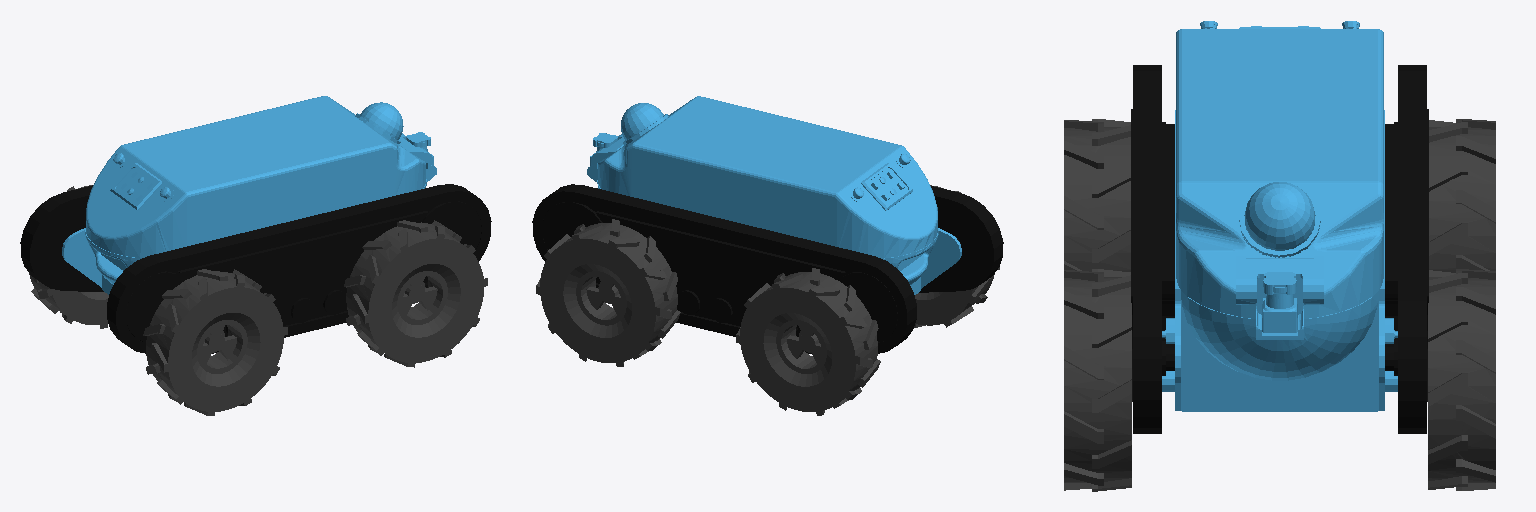
URDF robot description (guardian):
<?xml version="1.0"?>
<robot name="guardian" 

       xmlns:xi="http://www.w3.org/2001/XInclude"
       xmlns:gazebo="http://playerstage.sourceforge.net/gazebo/xmlschema/#gz"
       xmlns:model="http://playerstage.sourceforge.net/gazebo/xmlschema/#model"
       xmlns:sensor="http://playerstage.sourceforge.net/gazebo/xmlschema/#sensor"
       xmlns:body="http://playerstage.sourceforge.net/gazebo/xmlschema/#body"
       xmlns:geom="http://playerstage.sourceforge.net/gazebo/xmlschema/#geom"
       xmlns:joint="http://playerstage.sourceforge.net/gazebo/xmlschema/#joint"
       xmlns:interface="http://playerstage.sourceforge.net/gazebo/xmlschema/#interface"
       xmlns:rendering="http://playerstage.sourceforge.net/gazebo/xmlschema/#rendering"
       xmlns:renderable="http://playerstage.sourceforge.net/gazebo/xmlschema/#renderable"
       xmlns:controller="http://playerstage.sourceforge.net/gazebo/xmlschema/#controller"
       xmlns:physics="http://playerstage.sourceforge.net/gazebo/xmlschema/#physics">

  <!-- BASE FOOTPRINT -->
  <!-- base_footprint is a fictitious link(frame) that is on the ground right below base_link origin,
             navigation stack depends on this frame -->
  <link name="base_footprint">
      <inertial>
          <mass value="0.0001" />
          <origin xyz="0 0 0" />
      <inertia ixx="0.0001" ixy="0.0" ixz="0.0"
                         iyy="0.0001" iyz="0.0" 
                         izz="0.0001" />
      </inertial>

      <visual>
          <origin xyz="0 0 0" rpy="0 0 0" />
          <geometry>
             <box size="0.001 0.001 0.001" />
          </geometry>
      </visual>

      <collision>
          <origin xyz="0 0 0.0" rpy="0 0 0" />
          <geometry>
            <box size="0.001 0.001 0.001" />
         </geometry>
     </collision>
  </link>

  <gazebo reference="base_footprint">
    <material>Gazebo/Green</material>
    <turnGravityOff>false</turnGravityOff>
  </gazebo>

  <joint name="base_footprint_joint" type="fixed">
     <!--NB: While you would think this would make it go up, it is oddly reversed.
      This moves the joint to 0,0,0 where we want it for rviz, etc. -->
     <origin xyz="0 0 0.130" rpy="0 0 0" />
     <origin xyz="0 0 0.18" rpy="0 0 0" />
     <parent link="base_footprint"/>
     <child link="base_link" />
  </joint>


  <!-- BASE_LINK (RED) -->
  <link name="base_link">
    <inertial>
      <mass value="45.0" />
      <origin xyz="0 0 0" />
      <inertia  ixx="3.737" ixy="0.008"  ixz="-0.144"  iyy="8.311"  iyz="-0.004"  izz="8.893" />
    </inertial>
    <visual>
       <origin xyz="0 0 0" rpy="0 0 0" />
       <geometry>
	 <mesh filename="package://guardian_description/meshes/chassis/v6/chassisV6.stl"/>
       </geometry>
    </visual>
    <collision>
       <origin xyz="0 0 0" rpy="0 0 0 " />
       <geometry>
         <mesh filename="package://guardian_description/meshes/chassis/v6/chassisV6.stl"/>
       </geometry>
    </collision>     
  </link>
  <gazebo reference="base_link">
    <material>Gazebo/Red</material>
    <turnGravityOff>false</turnGravityOff>
  </gazebo>


  <!-- LEFT TRACK (BLACK) -->
  <link name="left_track">
    <inertial>
      <mass value="1.250" />
      <origin xyz="0 0 0" /> 
      <inertia  ixx="0.0109375" ixy="0.0"  ixz="0.0"  iyy="0.021125"  iyz="0.0"  izz="0.0109375" />
    </inertial>
    <visual>
        <origin xyz="0 0 0" rpy="0 0 0" /> 
        <geometry>
	 <mesh filename="package://guardian_description/meshes/others/v5/trackV5_l.stl"/>
        </geometry>
	<material name="black">
  		<color rgba="0.1 0.1 0.1 1"/>
      	</material>
    </visual>
    <collision>
       <origin xyz="0 0 0" rpy="0 0 0" />
       <geometry>
         <mesh filename="package://guardian_description/meshes/others/v5/trackV5_l.stl"/>
       </geometry>
    </collision>
  </link>
  <gazebo reference="left_track">
    <material>Gazebo/FlatBlack</material>
    <turnGravityOff>false</turnGravityOff>
  </gazebo>

  <joint name="joint_left_track" type="fixed">
    <parent link="base_link"/>
    <child link="left_track"/>
    <origin xyz="0.0 0.0 0.0" rpy="0 0 0" /> 
  </joint>


  <!-- RIGHT TRACK (BLACK) -->
  <link name="right_track">
    <inertial>
      <mass value="1.250" />
      <origin xyz="0 0 0" /> 
      <inertia  ixx="0.0109375" ixy="0.0"  ixz="0.0"  iyy="0.021125"  iyz="0.0"  izz="0.0109375" />
    </inertial>
    <visual>
       <origin xyz="0 0 0" rpy="0 0 0" /> 
       <geometry>
	 <mesh filename="package://guardian_description/meshes/others/v5/trackV5_l.stl"/>
       </geometry>
	<material name="black">
		<color rgba="0.1 0.1 0.1 1"/>
      	</material>
    </visual>
    <collision>
       <origin xyz="0 0 0" rpy="0 0 0" />
       <geometry>
         <mesh filename="package://guardian_description/meshes/others/v5/trackV5_l.stl"/>
       </geometry>
    </collision>
  </link>
  <gazebo reference="right_track">
    <material>Gazebo/FlatBlack</material>
    <turnGravityOff>false</turnGravityOff>
  </gazebo>

  <joint name="joint_right_track" type="fixed">
    <parent link="base_link"/>
    <child link="right_track"/>
    <origin xyz="0.0 0.0 0.0" rpy="0 0 3.1415926535" /> 
    <!-- axis xyz="0 1 0" rpy="0 0 0" / -->
  </joint>



  <!-- BACK LEFT WHEEL (GREY) -->
  <link name="back_left_wheel">
    <inertial>
      <mass value="4.5" />
      <origin xyz="0 0 0" /> 
      <inertia  ixx="0.059" ixy="0.0"  ixz="0.0"  iyy="0.055"  iyz="0.0"  izz="0.059" />
    </inertial>
    <visual>
       <origin xyz="0 0 0" rpy="0 0 3.1416" /> 
       <geometry>
	 <mesh filename="package://guardian_description/meshes/wheel.stl"/>
       </geometry>
	<material name="grey">
		<color rgba="0.3 0.3 0.3 1"/>
      	</material>
    </visual>
    <collision>
       <origin xyz="0 0.045 0" rpy="1.570796 0 0" /> 
       <geometry>
         <cylinder radius="0.185" length="0.11"/> 
       </geometry>
    </collision>
  </link>
  <gazebo reference="back_left_wheel">
    <kp value="1000000.0"/>
    <kd value="100.0"/>
    <minDepth value="0.005"/>
    <mu1 value="1"/> <!-- 2.0 -->
    <mu2 value="1"/> <!-- 0.5 -->
    <fdir1 value="1 0 0"/>
    <material>Gazebo/Grey</material>
    <turnGravityOff>false</turnGravityOff>
  </gazebo>

  <joint name="joint_back_left_wheel" type="continuous">
    <parent link="base_link"/>
    <child link="back_left_wheel"/>
    <origin xyz="-0.30 0.265 0" rpy="0 0 0" /> 
    <axis xyz="0 1 0" rpy="0 0 0" />
    <limit effort="100" velocity="100"/>
    <joint_properties damping="0.0" friction="0.0"/>
  </joint>

  <transmission name="joint_blw_trans" type="pr2_mechanism_model/SimpleTransmission">
     <actuator name="joint_blw_motor" />
     <joint name="joint_back_left_wheel" />
     <mechanicalReduction>1</mechanicalReduction>
     <motorTorqueConstant>1</motorTorqueConstant>
  </transmission>


  <!-- BACK RIGHT WHEEL (BLACK) -->
  <link name="back_right_wheel">
    <inertial>
      <mass value="4.5" />
      <origin xyz="0 0 0" />
      <inertia  ixx="0.059" ixy="0.0"  ixz="0.0"  iyy="0.055"  iyz="0.0"  izz="0.059" />
    </inertial>
    <visual>
       <origin xyz="0 0 0" rpy="0 0 0" /> 
       <geometry>
         <mesh filename="package://guardian_description/meshes/wheel.stl"/>
       </geometry>
	<material name="gray">
		<color rgba="0.3 0.3 0.3 1"/>
      	</material>
    </visual>
    <collision>
       <origin xyz="0 -0.045 0" rpy="1.570796 0 0" /> 
       <geometry>
         <cylinder radius="0.185" length="0.11"/> 
       </geometry>
    </collision>
  </link>
  <gazebo reference="back_right_wheel">
    <kp value="1000000.0"/>
    <kd value="100.0"/>
    <minDepth value="0.005"/>
    <mu1 value="1"/> <!-- 2.0 -->
    <mu2 value="1"/> <!-- 0.5 -->
    <fdir1 value="1 0 0"/>
    <material>Gazebo/Grey</material>
    <turnGravityOff>false</turnGravityOff>
  </gazebo>

  <joint name="joint_back_right_wheel" type="continuous">
    <parent link="base_link"/>
    <child link="back_right_wheel"/>
    <origin xyz="-0.30 -0.265 0" rpy="0 0 0" />
    <axis xyz="0 1 0" />
    <limit effort="100" velocity="100"/>
    <joint_properties damping="0.0" friction="0.0"/>
  </joint>

  <transmission name="joint_brw_trans" type="pr2_mechanism_model/SimpleTransmission">
     <actuator name="joint_brw_motor" />
     <joint name="joint_back_right_wheel" />
     <mechanicalReduction>1</mechanicalReduction>
     <motorTorqueConstant>1</motorTorqueConstant>
  </transmission>

  <!-- FRONT LEFT WHEEL (GREY) -->
  <link name="front_left_wheel">
    <inertial>
      <mass value="4.5" />
      <origin xyz="0 0 0" />
      <inertia  ixx="0.059" ixy="0.0"  ixz="0.0"  iyy="0.055"  iyz="0.0"  izz="0.059" />
    </inertial>
    <visual>
       <origin xyz="0 0 0" rpy="0 0 3.1416" /> 
       <geometry>
         <mesh filename="package://guardian_description/meshes/wheel.stl"/>
       </geometry>
	<material name="grey">
		<color rgba="0.3 0.3 0.3 1"/>
      	</material>
    </visual>
    <collision>
       <origin xyz="0 0.045 0" rpy="1.570796 0 0" /> 
       <geometry>
         <cylinder radius="0.185" length="0.11"/> 
       </geometry>
    </collision>
  </link>
  <gazebo reference="front_left_wheel">
    <kp value="1000000.0"/>
    <kd value="100.0"/>
    <minDepth value="0.005"/>
    <mu1 value="1"/> <!-- 2.0 -->
    <mu2 value="1"/> <!-- 0.5 -->
    <fdir1 value="1 0 0"/>
    <material>Gazebo/Grey</material>
    <turnGravityOff>false</turnGravityOff>
  </gazebo>

  <joint name="joint_front_left_wheel" type="continuous">
    <parent link="base_link"/>
    <child link="front_left_wheel"/>
    <origin xyz="0.30 0.265 0" rpy="0 0 0" />
    <axis xyz="0 1 0" />
    <limit effort="100" velocity="100"/>
    <joint_properties damping="0.0" friction="0.0"/>
  </joint>

  <transmission name="joint_flw_trans" type="pr2_mechanism_model/SimpleTransmission">
     <actuator name="joint_flw_motor" />
     <joint name="joint_front_left_wheel" />
     <mechanicalReduction>1</mechanicalReduction>
     <motorTorqueConstant>1</motorTorqueConstant>
  </transmission>


  <!-- FRONT RIGHT WHEEL (GREY) -->
  <link name="front_right_wheel">
    <inertial>
      <mass value="4.5" />
      <origin xyz="0 0 0" />
      <inertia  ixx="0.059" ixy="0.0"  ixz="0.0"  iyy="0.055"  iyz="0.0"  izz="0.059" />
    </inertial>
    <visual>
       <origin xyz="0 0 0" rpy="0 0 0" /> 
       <geometry>
         <mesh filename="package://guardian_description/meshes/wheel.stl"/>
       </geometry>
	<material name="grey">
		<color rgba="0.3 0.3 0.3 1"/>
      	</material>
    </visual>
    <collision>
       <origin xyz="0 -0.045 0" rpy="1.570796 0 0" /> 
       <geometry>
         <cylinder radius="0.185" length="0.11"/> 
       </geometry>
    </collision>
  </link>
  <gazebo reference="front_right_wheel">
    <kp value="1000000.0"/>
    <kd value="100.0"/>
    <minDepth value="0.005"/>
    <mu1 value="1"/> <!-- 2.0 -->
    <mu2 value="1"/> <!-- 0.5 -->
    <fdir1 value="1 0 0"/>
    <material>Gazebo/Grey</material>
    <turnGravityOff>false</turnGravityOff>
  </gazebo>

  <joint name="joint_front_right_wheel" type="continuous">
    <parent link="base_link"/>
    <child link="front_right_wheel"/>
    <origin xyz="0.30 -0.265 0" rpy="0 0 0" />
    <axis xyz="0 1 0" />
    <limit effort="100" velocity="100"/>
    <joint_properties damping="0.0" friction="0.0"/>
  </joint>

  <transmission name="joint_frw_trans" type="pr2_mechanism_model/SimpleTransmission">
     <actuator name="joint_frw_motor" />
     <joint name="joint_front_right_wheel" />
     <mechanicalReduction>1</mechanicalReduction>
     <motorTorqueConstant>1</motorTorqueConstant>
  </transmission>


  <!-- HOKUYO SENSOR -->
  <joint name="hokuyo_laser_joint" type="fixed">
     <axis xyz="0 1 0" />
     <origin xyz="0.5 0 0.285"/>
     <parent link="base_link"/>
     <child link="hokuyo_laser_link"/>
  </joint>
  <link name="hokuyo_laser_link" type="laser">
     <inertial>
       <mass value="0.001" />
       <origin xyz="0 0 0" rpy="0 0 0" />
       <inertia ixx="0.0001" ixy="0" ixz="0" iyy="0.000001" iyz="0" izz="0.0001" />
    </inertial>
  </link>

  <gazebo reference="hokuyo_laser_box_link">
    <material>Gazebo/FlatBlack</material>
    <turnGravityOff>false</turnGravityOff>
  </gazebo>

  <!-- IMU SENSOR -->

  <joint name="imu_joint" type="fixed">
      <axis xyz="1 0 0"/> <!-- 0 1 0 -->
      <origin xyz="0 0 0.2825"/>
      <parent link="base_link"/>
      <child link="imu_link"/>
  </joint>


  <link name="imu_link">
      <inertial>
        <mass value="0.001"/>
        <origin rpy="0 0 0" xyz="0 0 0"/>
        <inertia ixx="0.0001" ixy="0" ixz="0" iyy="0.000001" iyz="0" izz="0.0001"/>
      </inertial>
      <visual>
        <origin rpy="0 0 0" xyz="0 0 0"/>
        <geometry>
          <box size="0.001 0.001 0.001"/>
        </geometry>
      </visual>
      <collision>
        <origin rpy="0 0 0" xyz="0 0 0"/>
        <geometry>
          <box size=".001 .001 .001"/>
        </geometry>
      </collision>
  </link>

  <!-- Gazebo controllers -->
  <gazebo>
     <controller:gazebo_ros_time name="gazebo_ros_time" plugin="libgazebo_ros_time.so">
       <alwaysOn>true</alwaysOn>
       <updateRate>1000.0</updateRate>
       <interface:audio name="dummy_gazebo_ros_time_iface_should_not_be_here"/>
     </controller:gazebo_ros_time>

      <!-- PR2_ACTARRAY -->
     <controller:gazebo_ros_controller_manager name="gazebo_ros_controller_manager" plugin="libgazebo_ros_controller_manager.so">
       <alwaysOn>true</alwaysOn>
       <updateRate>1000.0</updateRate>
       <interface:audio name="gazebo_ros_controller_manager_dummy_iface" />
     </controller:gazebo_ros_controller_manager>

  </gazebo>

  <!-- Other controllers (HOKUYO SENSOR) -->

  <gazebo reference = "hokuyo_laser_link">
    <sensor:ray name="hokuyo_laser">
       <rayCount>640</rayCount>
       <rangeCount>640</rangeCount>
       <laserCount>1</laserCount>

       <origin>0.0 0.0 0.0</origin>
       <displayRays>fan</displayRays>

       <minAngle>-120.0</minAngle>
       <maxAngle>120.0</maxAngle>
     
       <minRange>0.05</minRange>
       <maxRange>4.0</maxRange>
       <resRange>0.001</resRange>
       <updateRate>10.0</updateRate>
       <controller:gazebo_ros_laser name="gazebo_ros_hokuyo_laser_controller" plugin="libgazebo_ros_laser.so">
         <gaussianNoise>0.005</gaussianNoise>
         <alwaysOn>true</alwaysOn>
         <updateRate>10.0</updateRate>
         <topicName>hokuyo_laser_topic</topicName>
         <frameName>hokuyo_laser_link</frameName>
         <interface:laser name="gazebo_ros_hokuyo_laser_iface" />
       </controller:gazebo_ros_laser>
    </sensor:ray>
   </gazebo>

   <!-- Other controllers (IMU SENSOR) -->

  <!--gazebo reference = "imu_link">
      <material>Gazebo/Green</material>
      <turnGravityOff>false</turnGravityOff>
      <controller:gazebo_ros_imu name="imu_controller" plugin="libgazebo_ros_imu.so">
         <alwaysOn>true</alwaysOn>
         <updateRate>50.0</updateRate>
         <bodyName>imu_link</bodyName>
         <topicName>imu_data</topicName>
         <xyzOffsets>0 0 0</xyzOffsets--> <!-- option to initialize odometry for fake localization-->
         <!--rpyOffsets>0 0 0</rpyOffsets>
	 <gaussianNoise>0.01</gaussianNoise>
	 <frameName>map</frameName>
         <interface:position name="imu_base_position"/--> <!--imu_position_iface-->
      <!--/controller:gazebo_ros_imu>
  </gazebo-->

  <gazebo>
    <controller:gazebo_ros_imu name="imu_controller" plugin="libgazebo_ros_imu.so">
      <alwaysOn>true</alwaysOn>
      <updateRate>50.0</updateRate> <!-- 100 -->
      <bodyName>imu_link</bodyName>
      <topicName>imu_data</topicName>
      <gaussianNoise>2.89e-08</gaussianNoise>
      <xyzOffsets>0 0 0</xyzOffsets>
      <rpyOffsets>0 0 0</rpyOffsets>
      <interface:position name="imu_position"/>
    </controller:gazebo_ros_imu>
  </gazebo>
  
</robot>

--- What the picture shows (computed from the rendered views, not written in the file) ---
3 views of the same robot in one strip: view 1: azimuth 30°, elevation 25°; view 2: azimuth 150°, elevation 25°; view 3: azimuth 270°, elevation 25° (orthographic).
Model guardian with 10 links and 9 joints (4 continuous, 5 fixed), rooted at base_footprint, posed every joint at zero.
Visible links, largest first — view 1: base_link, left_track, back_right_wheel, front_right_wheel, right_track, back_left_wheel; view 2: base_link, right_track, back_left_wheel, front_left_wheel, left_track, back_right_wheel; view 3: base_link, front_right_wheel, front_left_wheel, left_track, right_track, back_left_wheel, back_right_wheel.
Boxes of the visible links, bbox=[...] form: base_link: bbox=[62, 96, 436, 294]; left_track: bbox=[107, 184, 491, 353]; back_right_wheel: bbox=[143, 269, 287, 415]; front_right_wheel: bbox=[344, 220, 487, 367]; right_track: bbox=[20, 185, 103, 291]; back_left_wheel: bbox=[29, 185, 108, 328]; base_link: bbox=[587, 96, 961, 294]; right_track: bbox=[532, 184, 916, 353]; back_left_wheel: bbox=[736, 268, 880, 415]; front_left_wheel: bbox=[536, 219, 680, 366]; left_track: bbox=[919, 186, 1003, 292]; back_right_wheel: bbox=[914, 185, 999, 327]; base_link: bbox=[1162, 21, 1397, 411]; front_right_wheel: bbox=[1064, 269, 1131, 491]; front_left_wheel: bbox=[1428, 269, 1495, 490]; left_track: bbox=[1131, 65, 1174, 433]; right_track: bbox=[1385, 65, 1428, 433]; back_left_wheel: bbox=[1429, 119, 1495, 272]; back_right_wheel: bbox=[1064, 119, 1130, 271].
Bounding box of the posed robot: 1.12 × 0.7283 × 0.5839 m (x, y, z).
7 mesh visuals loaded from 3 distinct referenced files (3 binary STL).
